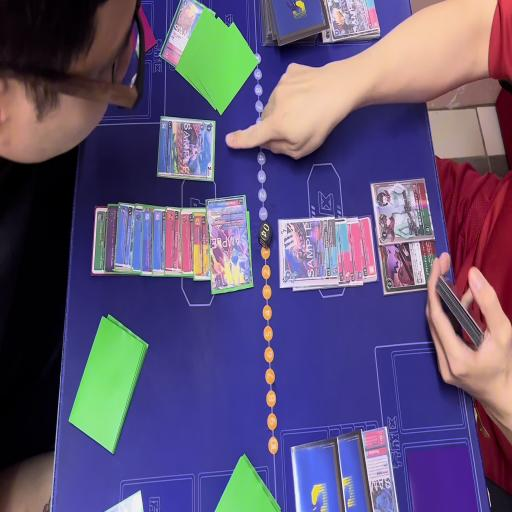card: (372, 170, 436, 244), (208, 193, 250, 296), (278, 217, 336, 290), (358, 421, 401, 512), (156, 120, 216, 184), (379, 238, 440, 297), (160, 0, 204, 72), (329, 0, 382, 44), (342, 210, 364, 289), (115, 192, 135, 278), (193, 206, 213, 284), (180, 204, 200, 282), (164, 203, 183, 282), (358, 212, 378, 285), (140, 200, 157, 280), (152, 206, 168, 284), (92, 200, 107, 278), (105, 196, 119, 277), (336, 215, 351, 289), (132, 203, 145, 278)
